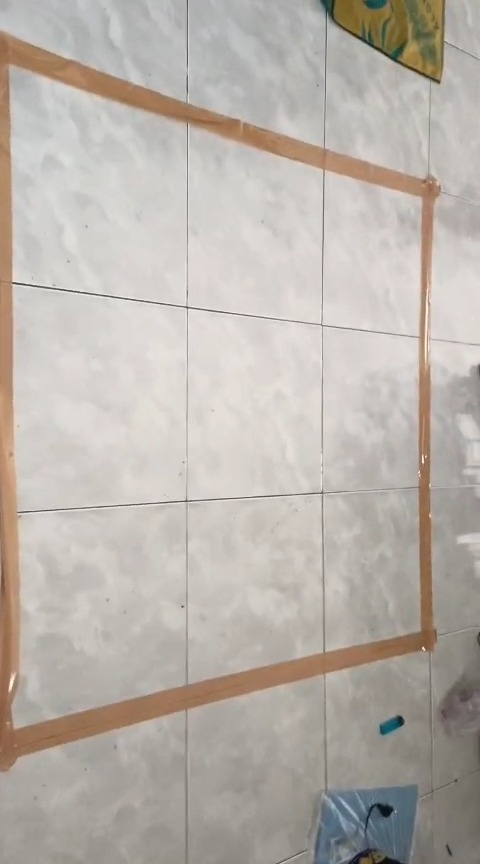floor marking: (0, 32, 439, 767)
